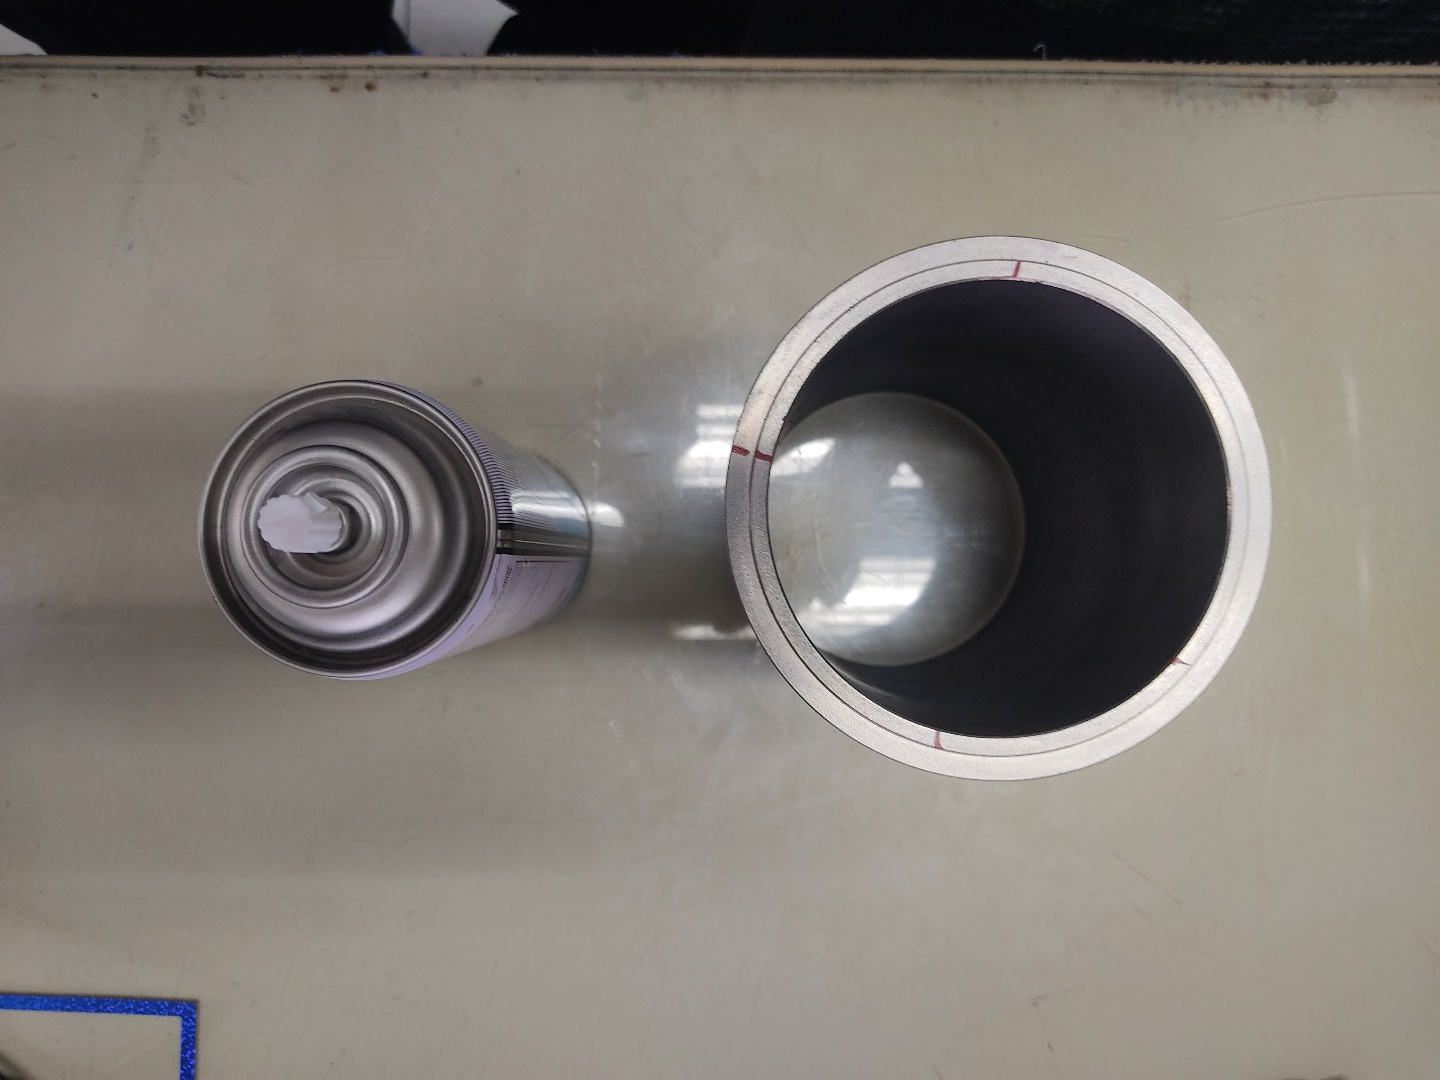cylinder: (715, 229, 1278, 790)
